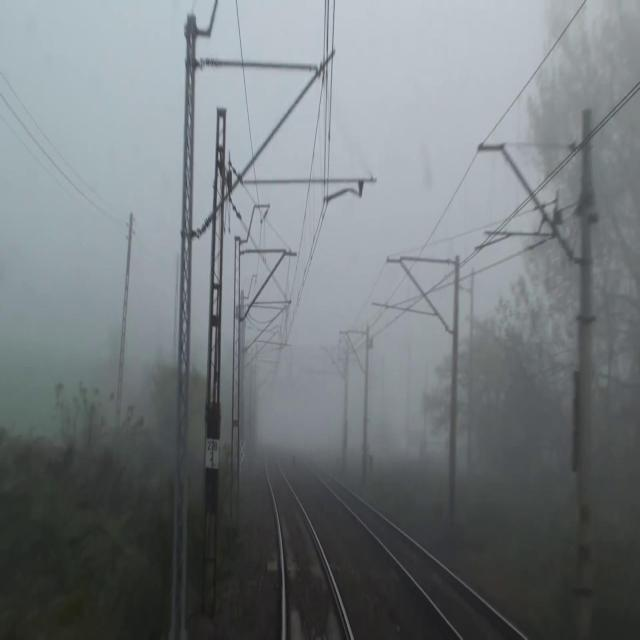rail-track: (327, 479, 519, 639), (268, 449, 349, 639)
